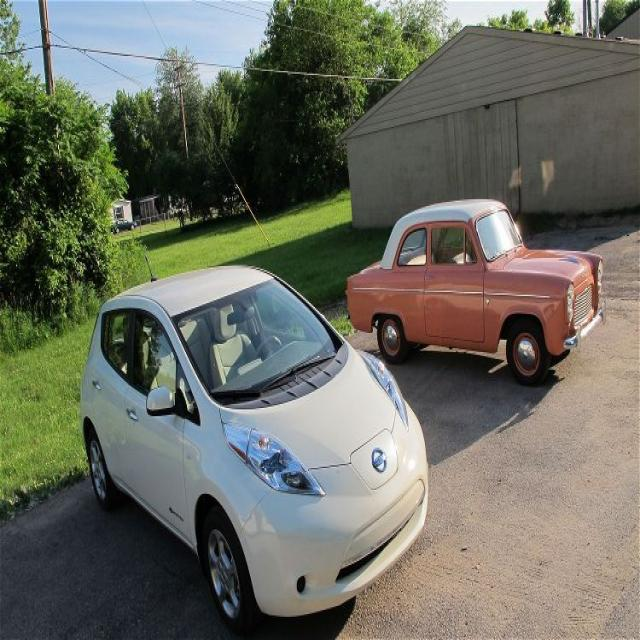car: (79, 252, 429, 623), (346, 197, 610, 386)
